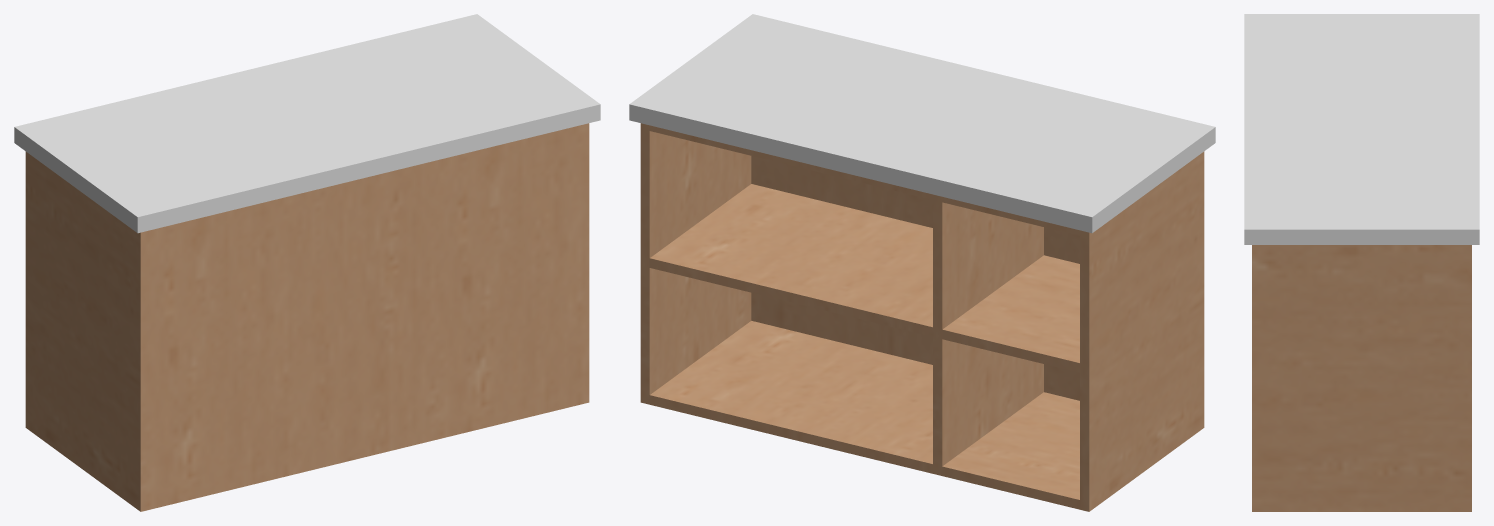
The model's file is BathroomVanity06.fbx.
3 views of the same model, side by side, from view 1: azimuth 30°, elevation 25°; view 2: azimuth 150°, elevation 25°; view 3: azimuth 270°, elevation 25° (orthographic). The views are drawn at different scales.
Visible parts, largest first — view 1: BathroomVanity06; view 2: BathroomVanity06; view 3: BathroomVanity06.
Boxes of the visible parts, x1,y1,x2,y2 form: BathroomVanity06: (14, 14, 600, 511); BathroomVanity06: (629, 14, 1215, 511); BathroomVanity06: (1244, 14, 1479, 511).
Size of the model in its own units: 100 by 62.09 by 46.39.
